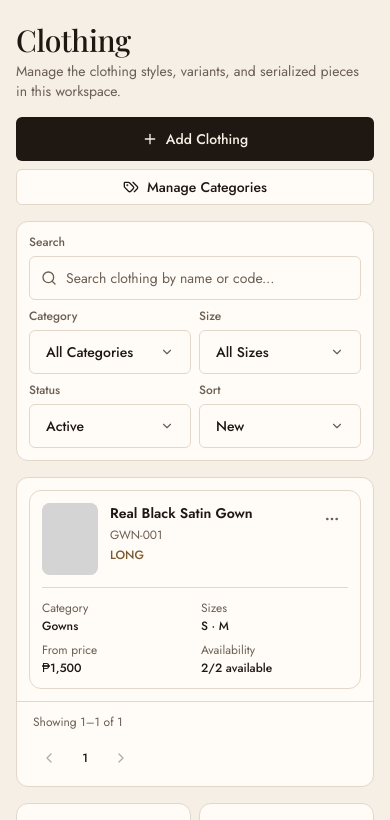
Test: ClothingPage › renders the backend cover image and falls back to initials when none is available
Type "DRS-002" into the field labelled "Search".
click(195, 278); type("DRS-002")  # box [29,256,361,300]
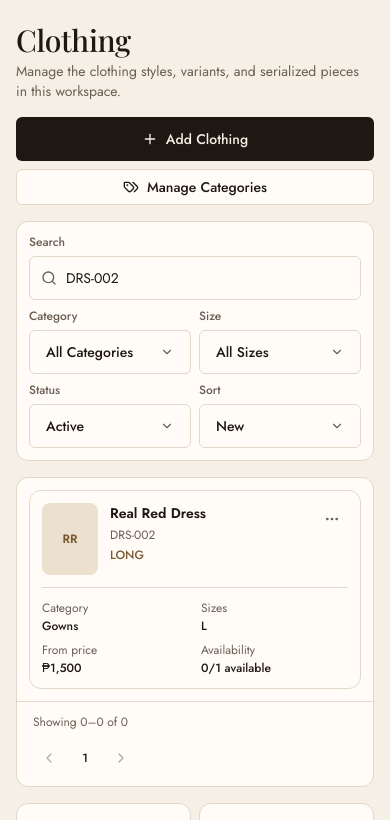
Result: the text "RR" is shown at [42,503,98,575]
